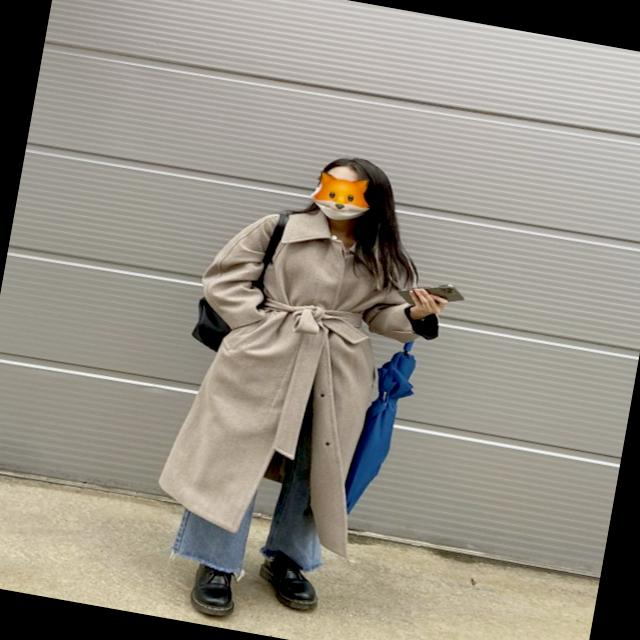coat: (151, 189, 442, 566)
denimpants: (172, 420, 344, 584)
